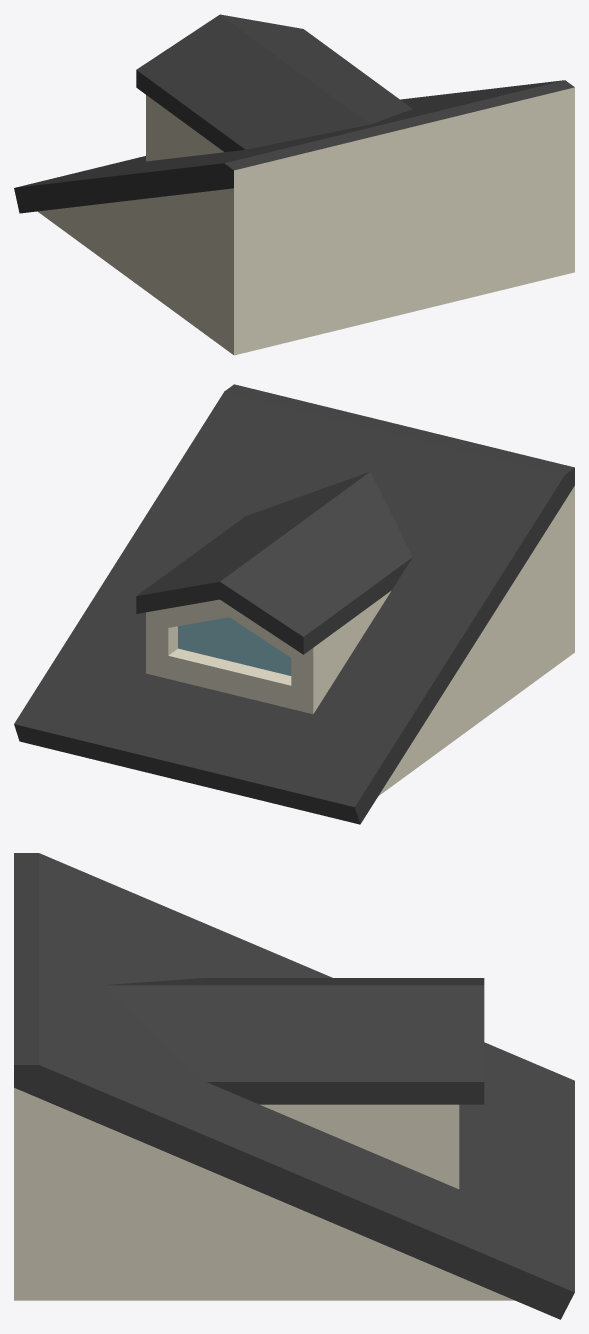
The model's file is roof3.obj.
3 renders of one model, top to bottom at view 1: azimuth 30°, elevation 25°; view 2: azimuth 150°, elevation 25°; view 3: azimuth 270°, elevation 25°, orthographic. The views are drawn at different scales.
Visible parts, largest first — view 1: roof3; view 2: roof3; view 3: roof3.
Part boxes in pixels (bbox=[...]): roof3: bbox=[14, 14, 574, 355]; roof3: bbox=[14, 384, 574, 824]; roof3: bbox=[14, 853, 574, 1319].
Bounding box in the file's own units: 1 × 0.5612 × 1.12.
